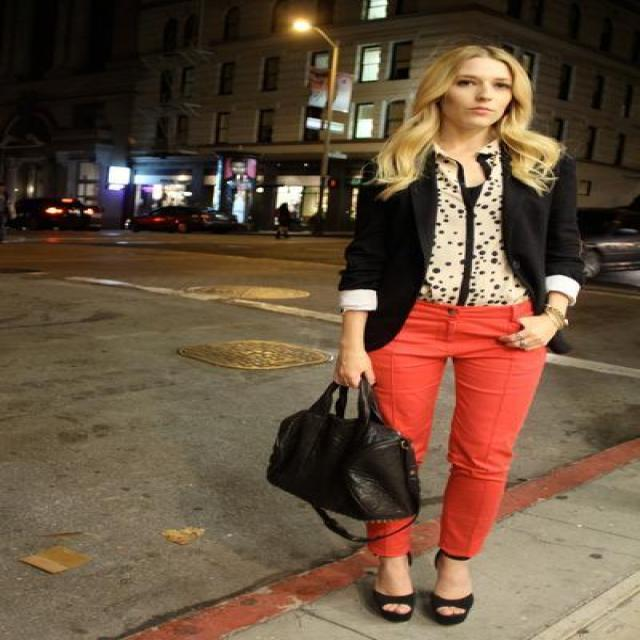bag: (268, 380, 422, 554)
jacket: (326, 145, 584, 354)
pants: (366, 294, 544, 568)
shirt: (421, 144, 526, 306)
shoe: (358, 586, 472, 625)
